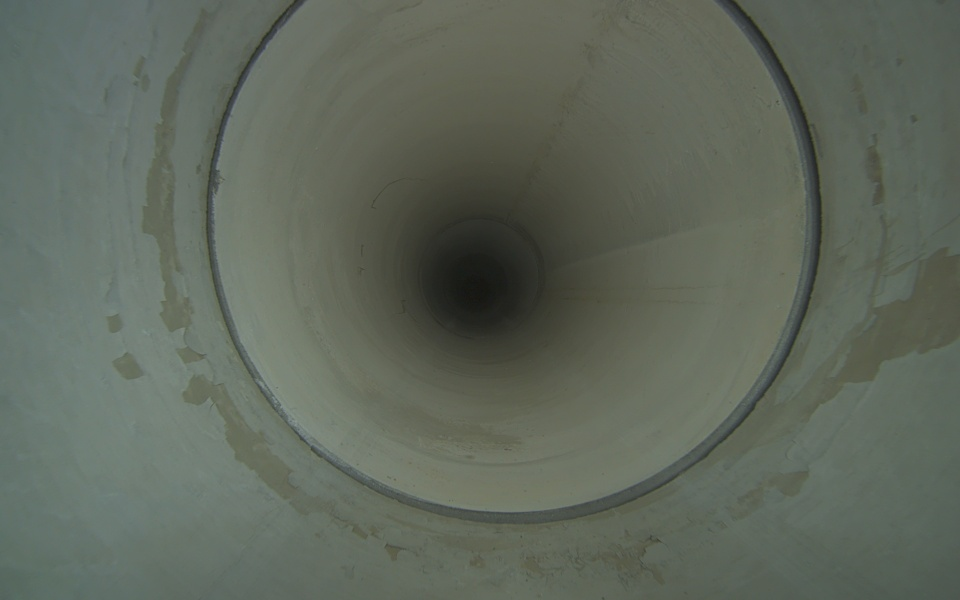circle1: (199, 1, 822, 524)
circle2: (457, 270, 497, 313)
